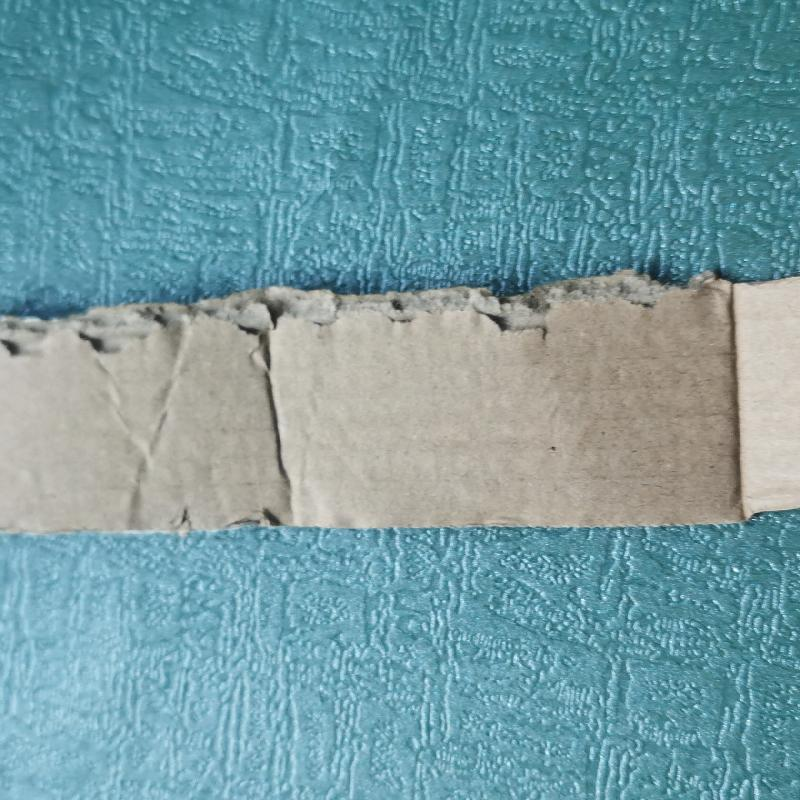boxes: (8, 261, 799, 545)
